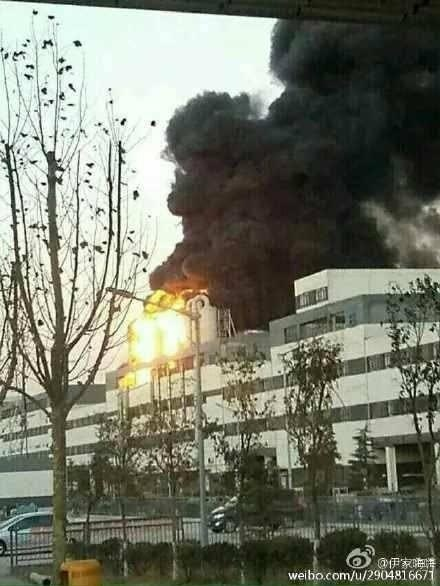fire: (121, 288, 186, 383)
